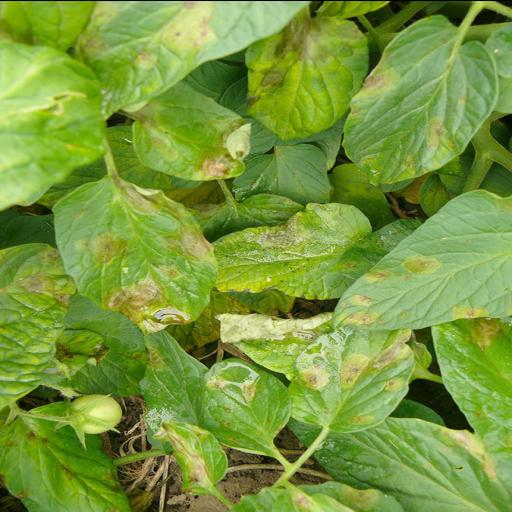disease_tomato: (338, 14, 498, 188), (50, 176, 222, 330), (332, 190, 512, 330), (289, 310, 416, 443), (212, 199, 374, 299), (245, 14, 369, 142), (131, 84, 253, 181), (194, 356, 292, 454), (160, 418, 230, 494)
